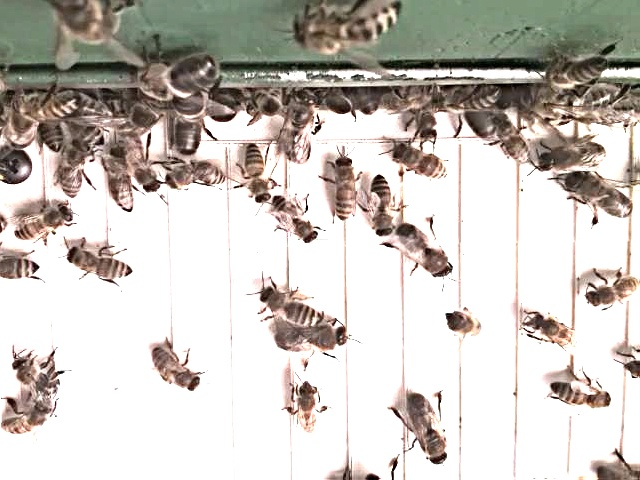Drone: (394, 223, 457, 282), (565, 171, 635, 224), (406, 394, 451, 470), (281, 89, 320, 170), (536, 141, 610, 175), (273, 325, 354, 356)
Worker: (149, 345, 206, 393), (271, 194, 321, 247), (64, 246, 135, 283), (259, 288, 323, 328), (12, 205, 74, 245), (394, 144, 453, 185), (125, 132, 162, 197), (493, 112, 533, 169), (105, 146, 136, 218), (166, 160, 229, 195), (57, 138, 92, 201), (550, 379, 614, 413), (242, 141, 274, 209), (331, 155, 362, 223), (586, 272, 640, 310), (368, 175, 398, 241), (0, 403, 56, 438), (530, 317, 583, 353), (295, 381, 322, 438)
